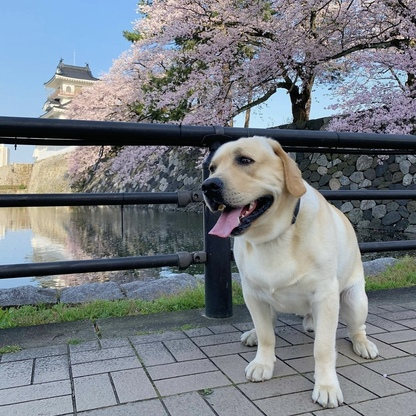labrado: (197, 133, 383, 409)
